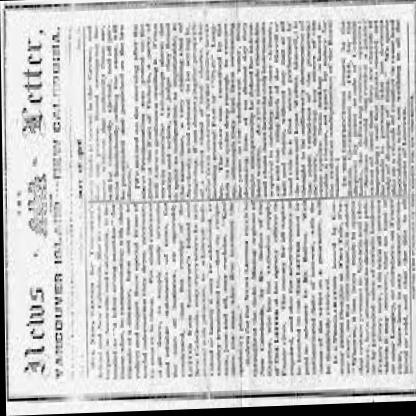Paper: (2, 0, 416, 400)
